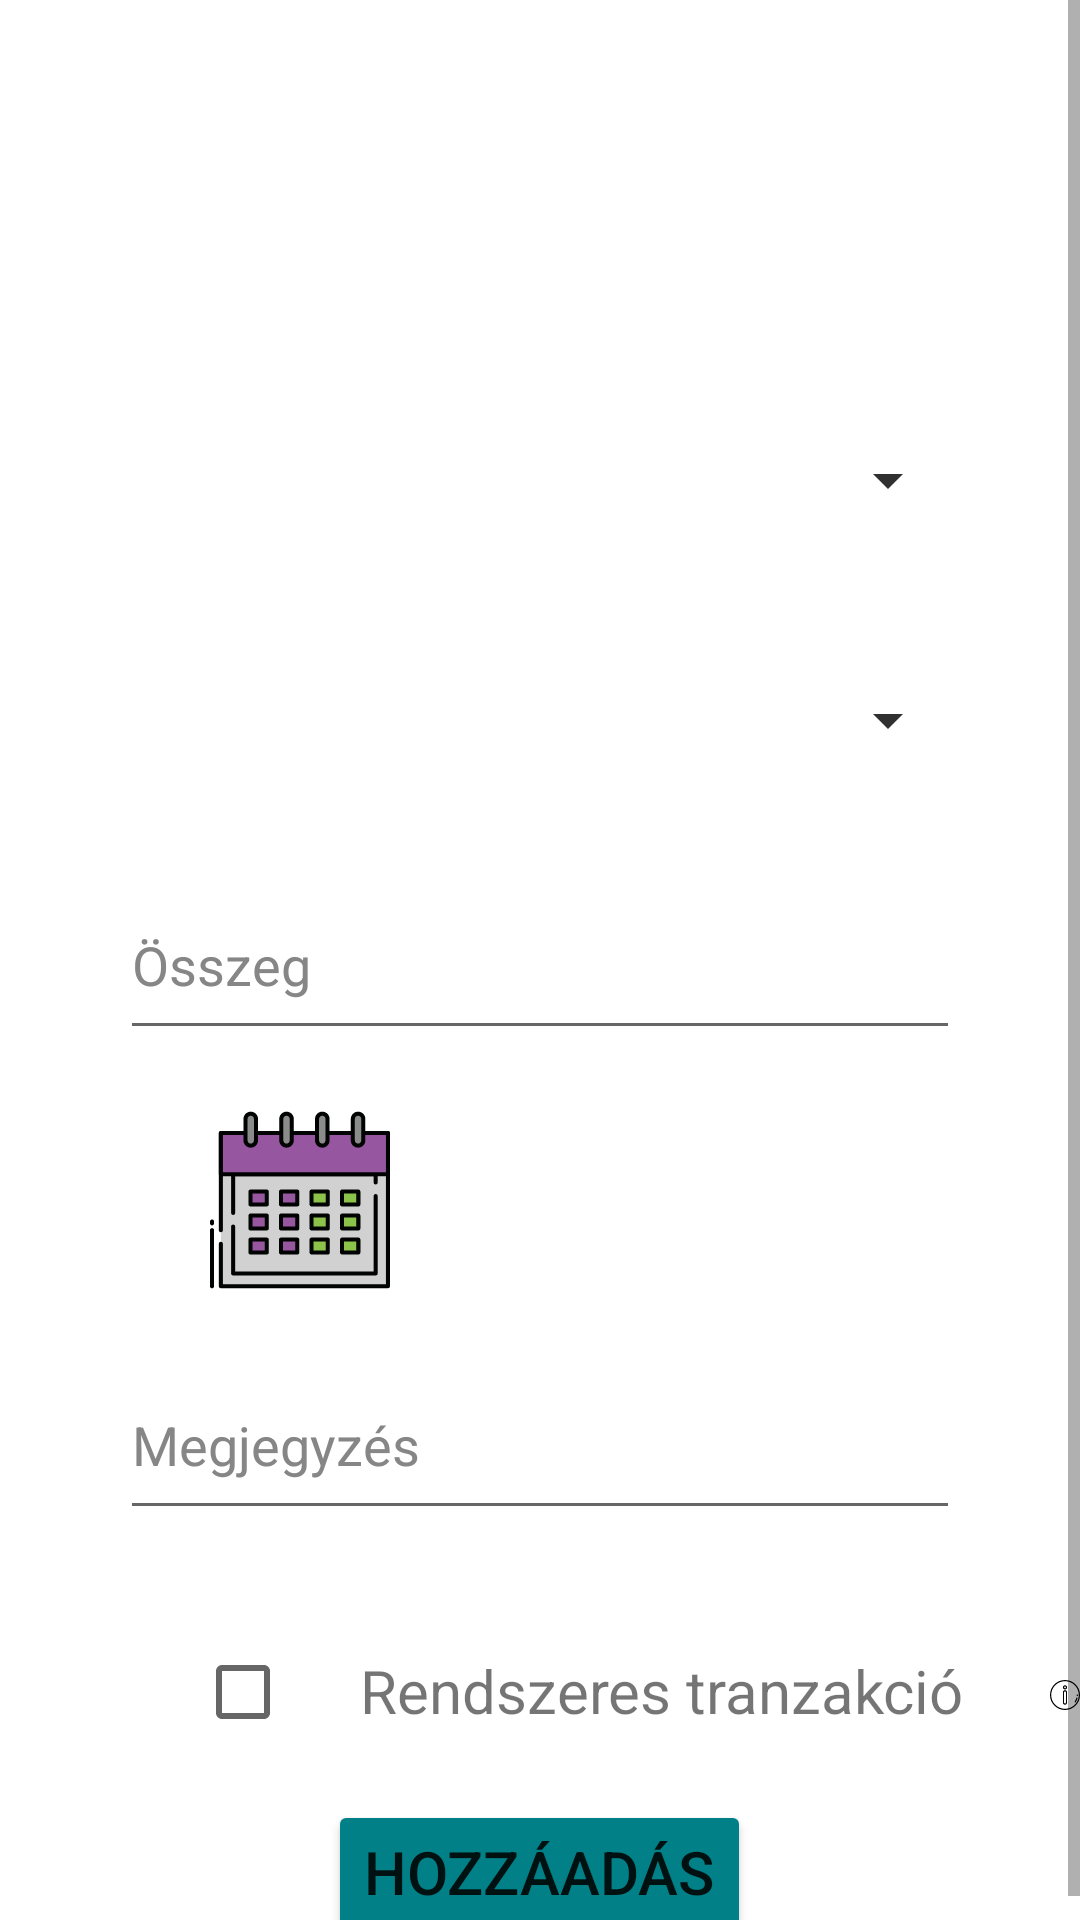

Named icons in this screenshot (1080w x 1920h) and their bounding boxes, box=[x1, y1, x2, y2]:
calendar: box=[210, 1111, 390, 1289]
info: box=[1050, 1665, 1080, 1725]
